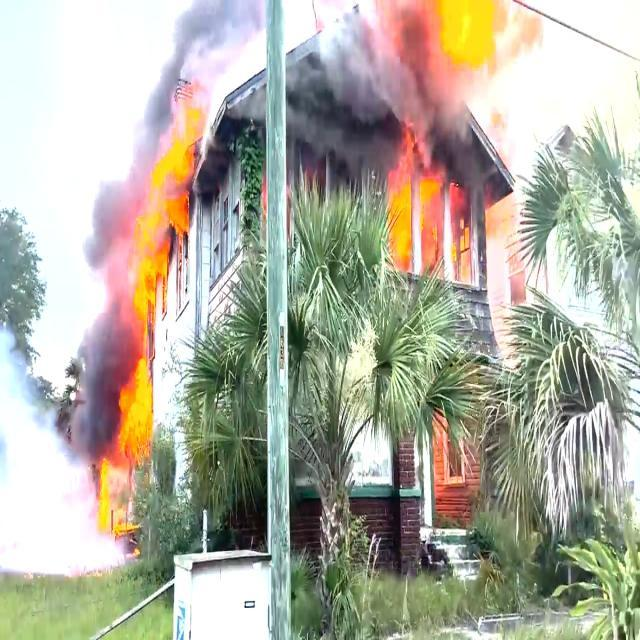Fire: (442, 8, 506, 98), (116, 363, 160, 488), (152, 142, 204, 236), (394, 176, 442, 271), (136, 241, 163, 313)
Smoke: (313, 31, 423, 150), (88, 190, 140, 332), (67, 312, 106, 476), (176, 16, 237, 88)
